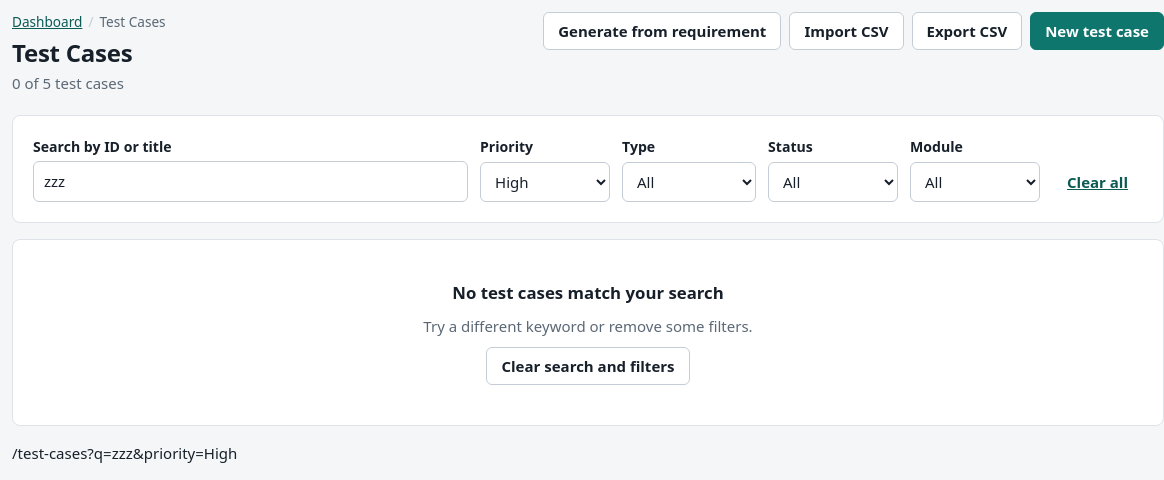
Scenario: TestCaseListPage › shows a no-match state and clears search and filters
Check: the heading "No test cases match your search" is shown, box [452, 280, 724, 305]
What coordinates should you click on to do the following:
click the button "Clear search and filters"
I would click on:
 (588, 366)
Its box is [486, 347, 690, 385].
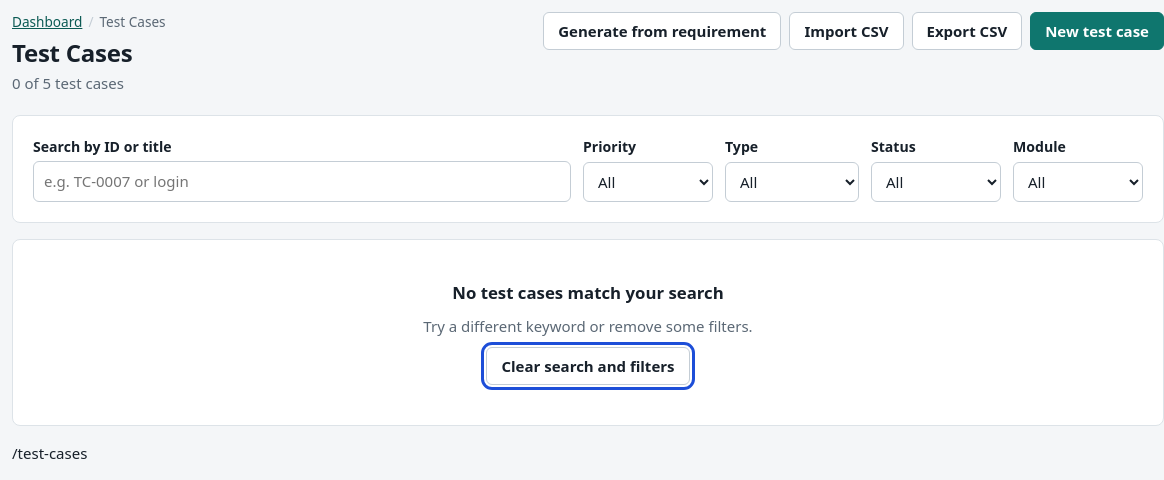
Check: the text with test id "location" reads "/test-cases", box [12, 443, 87, 463]
Check: the search field labelled "Search by ID or title" is empty, box [33, 161, 571, 202]
